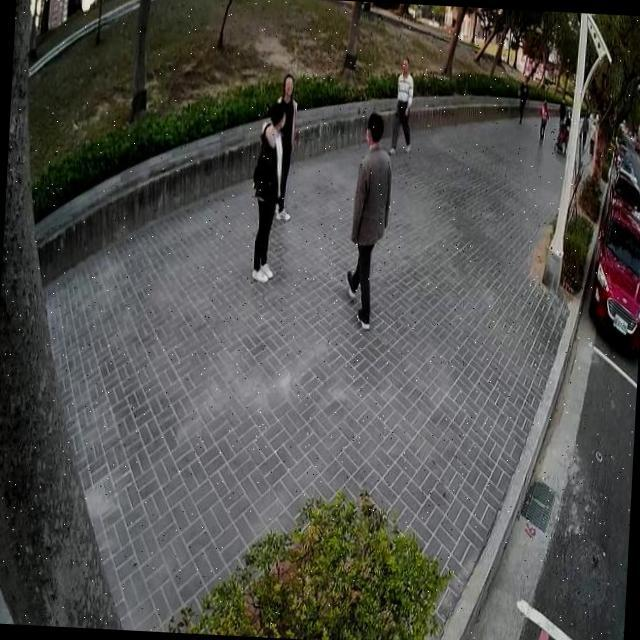person: (340, 107, 398, 334), (243, 95, 290, 284), (268, 69, 302, 226), (386, 53, 416, 159), (516, 72, 532, 126), (536, 98, 550, 148)
